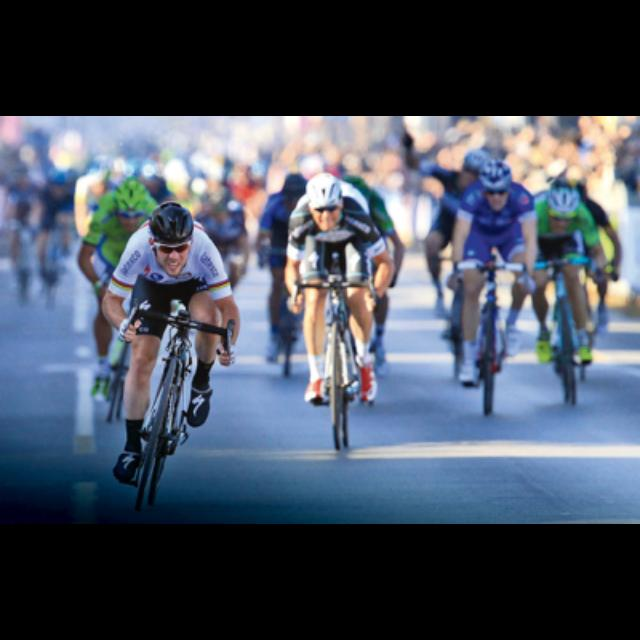With Helmet: (146, 199, 198, 277), (298, 165, 350, 232)
